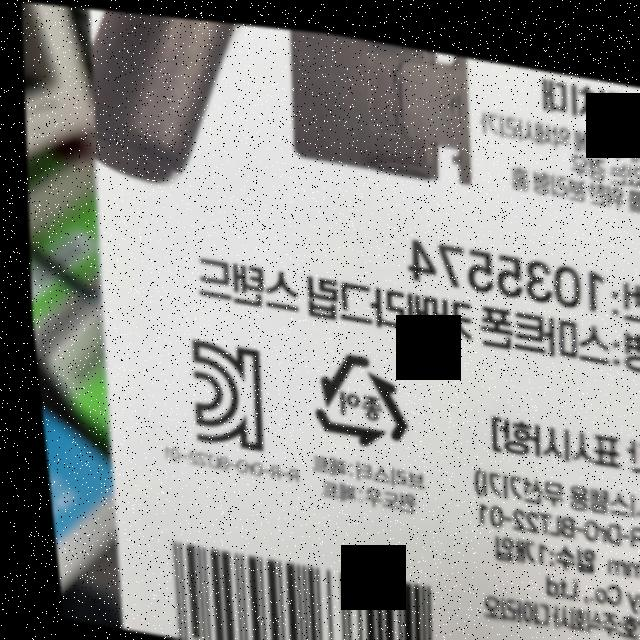Paper: (292, 334, 411, 453)
